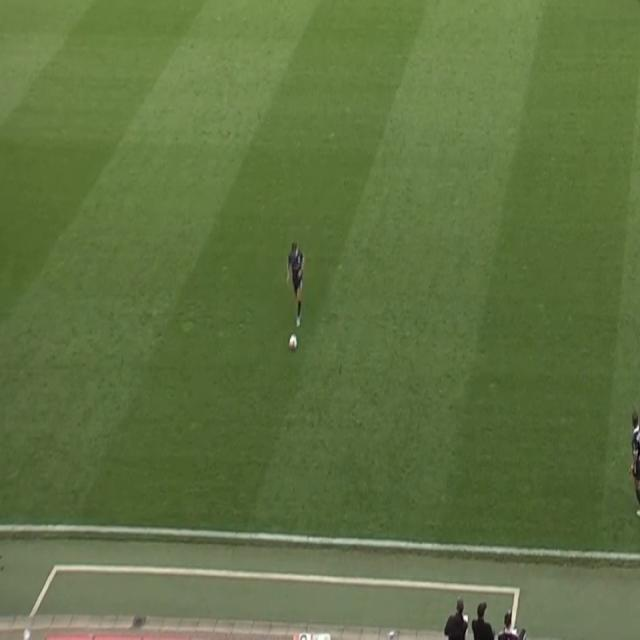ball: (287, 334, 298, 354)
